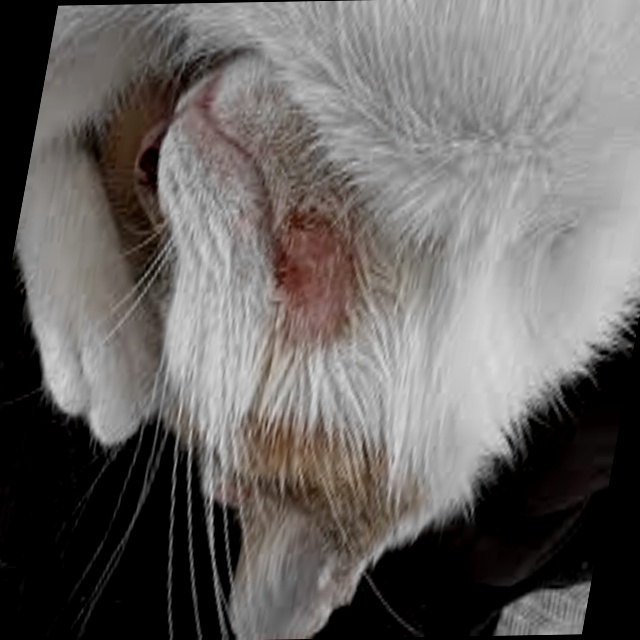ringworm: (256, 219, 367, 331)
